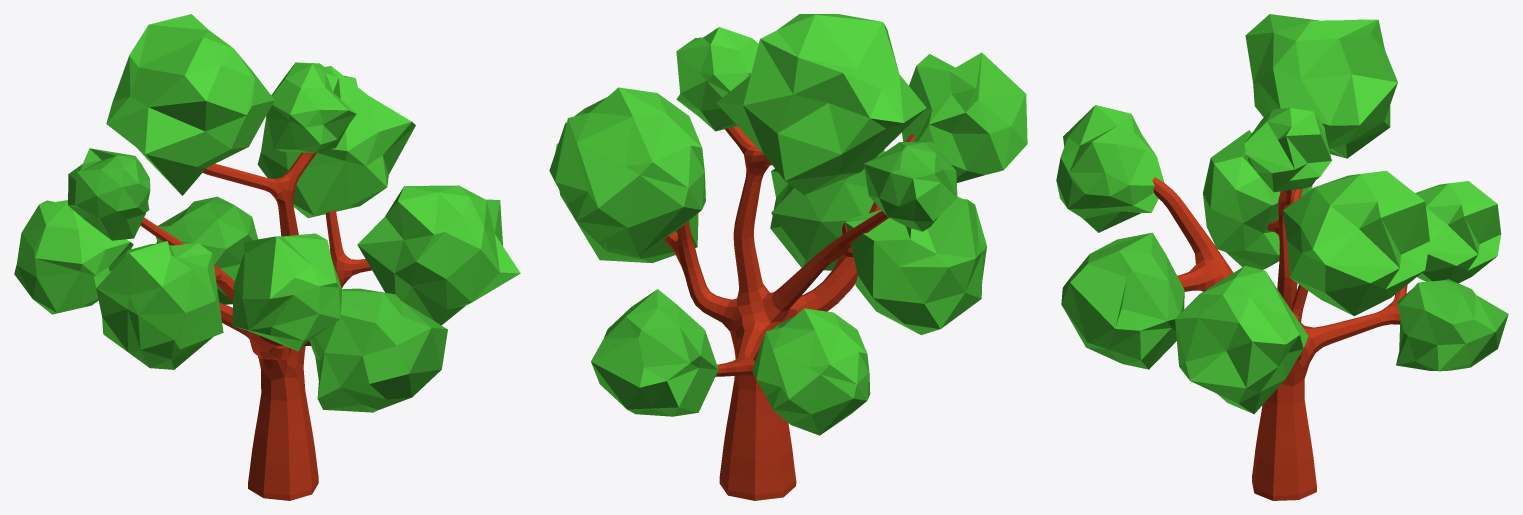
File: tree.fbx
The picture shows the model from 3 angles, left to right: view 1: azimuth 30°, elevation 25°; view 2: azimuth 150°, elevation 25°; view 3: azimuth 270°, elevation 25°; orthographic projection. The views are drawn at different scales.
Parts seen in each view (by area): view 1: tree_leaf1.001, tree_leaf2.001, tree_leaf3.001, tree_mid.001, tree_leaf1.002, tree_leaf2.002, tree_leaf3.002, tree_mid.002; view 2: tree_leaf2.001, tree_leaf1.002, tree_leaf1.001, tree_leaf2.002, tree_mid.001, tree_leaf3.002, tree_leaf3.001, tree_mid.002; view 3: tree_leaf2.002, tree_leaf1.002, tree_leaf3.002, tree_mid.002, tree_leaf1.001, tree_leaf2.001, tree_mid.001, tree_leaf3.001.
Part boxes in pixels (x1,y1,x2,y2): tree_leaf1.001: (106,14,520,351); tree_leaf2.001: (14,62,411,369); tree_leaf3.001: (68,148,447,412); tree_mid.001: (140,152,371,500); tree_leaf1.002: (149,24,520,329); tree_leaf2.002: (40,62,415,330); tree_leaf3.002: (72,148,447,396); tree_mid.002: (143,153,362,496); tree_leaf2.001: (555,27,986,435); tree_leaf1.002: (558,14,1027,263); tree_leaf1.001: (555,14,1026,257); tree_leaf2.002: (549,27,975,435); tree_mid.001: (668,126,914,500); tree_leaf3.002: (591,141,943,416); tree_leaf3.001: (591,141,957,416); tree_mid.002: (663,128,913,500); tree_leaf2.002: (1210,108,1501,316); tree_leaf1.002: (1060,14,1397,414); tree_leaf3.002: (1070,233,1508,371); tree_mid.002: (1152,177,1407,499); tree_leaf1.001: (1056,14,1377,391); tree_leaf2.001: (1203,108,1462,281); tree_mid.001: (1177,192,1343,500); tree_leaf3.001: (1061,233,1501,369).
Bounding box in the file's own units: 5.46 × 6.01 × 5.65.
